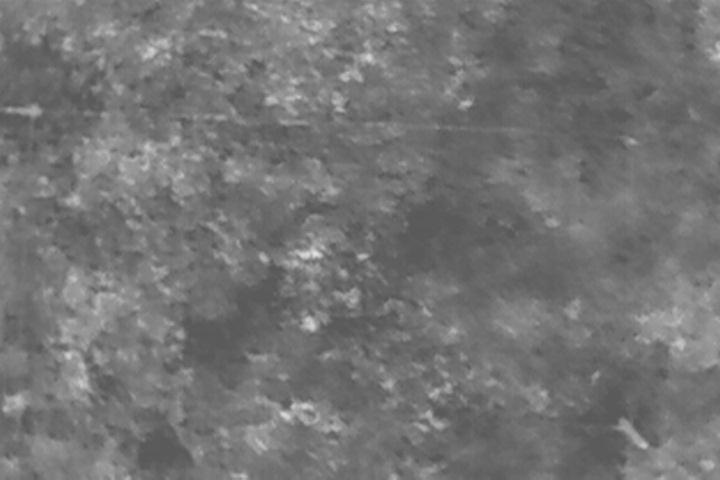landmine: (295, 238, 332, 277)
